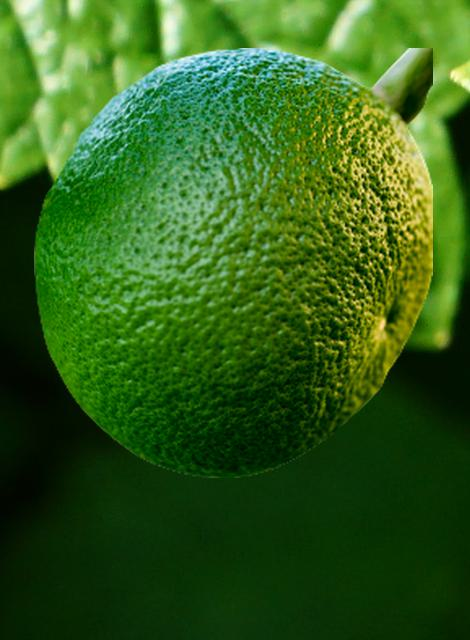dalandan: (34, 48, 431, 476)
